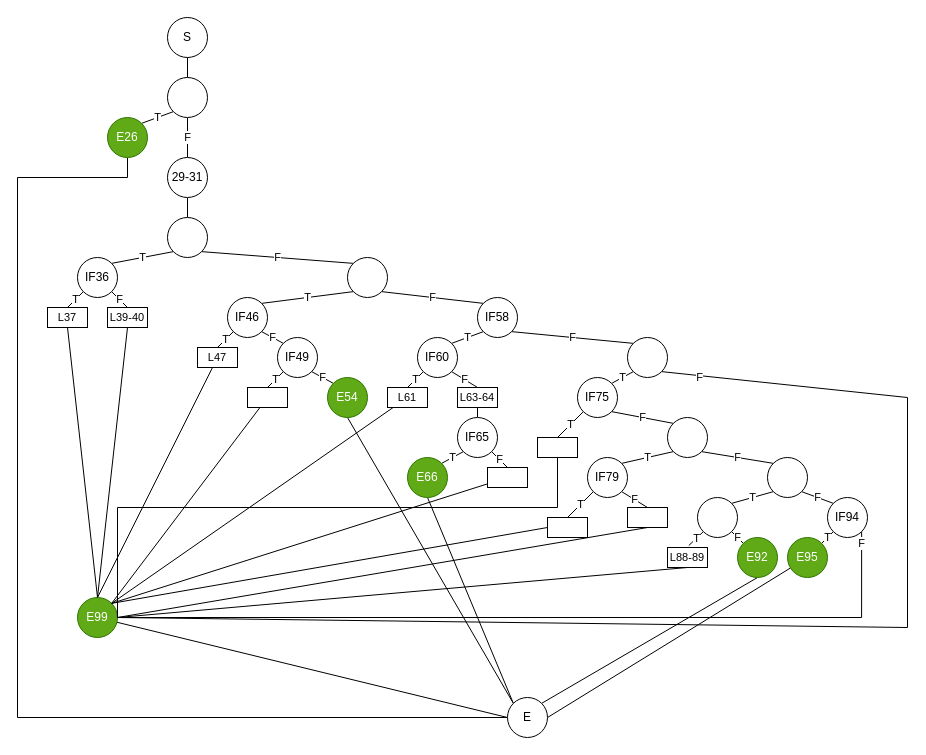
Image size: 926x755. Some labels were removed from this diagram. Here are the shapes that lost their labels. From the top down, the box of each, then its label:
(166, 76, 208, 118): IF25
(166, 216, 208, 258): IF34
(346, 256, 388, 298): IF44
(626, 336, 668, 378): IF73
(246, 386, 288, 408): L50-51
(536, 436, 578, 458): L76
(666, 416, 708, 458): IF78
(486, 466, 528, 488): L68
(766, 456, 808, 498): IF86
(546, 516, 588, 538): L80
(626, 506, 668, 528): L82-83
(696, 496, 738, 538): IF87
